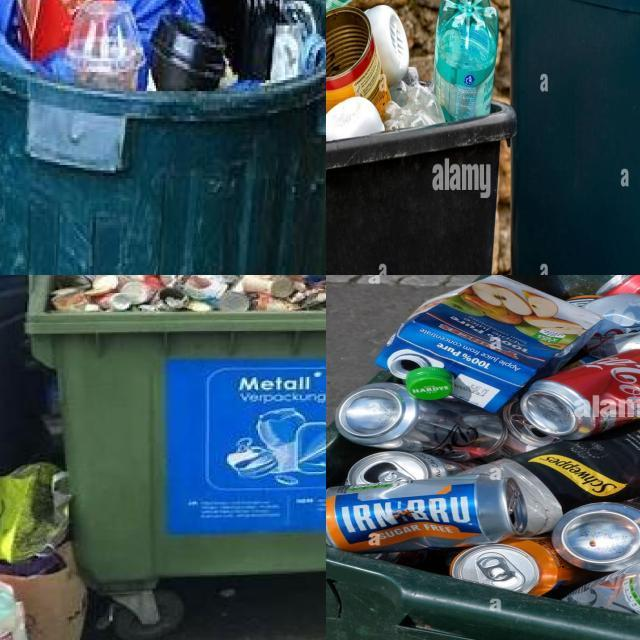Garbage: (326, 275, 640, 615), (326, 0, 498, 139), (48, 275, 326, 312)
Plastic_Container: (366, 5, 409, 87), (326, 96, 385, 141)
Plastic_bottle: (460, 420, 640, 536), (434, 0, 498, 120), (67, 0, 143, 90), (152, 16, 224, 91), (382, 67, 445, 131)
Tetrapack: (375, 275, 601, 411)
Tin_box: (326, 7, 390, 113)
can: (326, 475, 527, 553), (336, 383, 505, 460), (520, 349, 640, 439), (450, 538, 604, 596), (450, 538, 597, 595), (553, 502, 640, 572), (564, 562, 640, 615), (347, 452, 465, 484), (586, 293, 640, 358), (503, 400, 560, 450), (239, 275, 294, 298)
tin_box: (55, 275, 98, 288)
